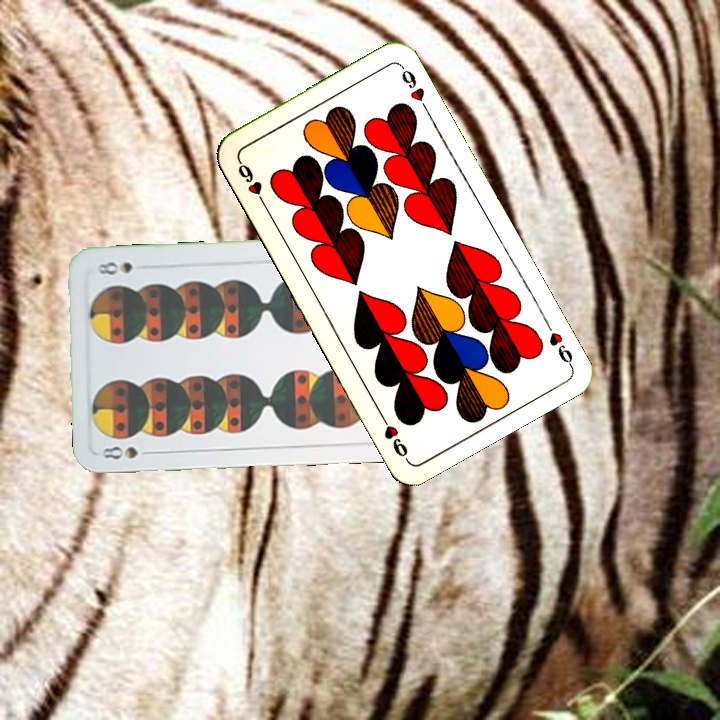H9: (233, 155, 269, 209), (540, 315, 576, 369)
S8: (98, 442, 157, 462)
